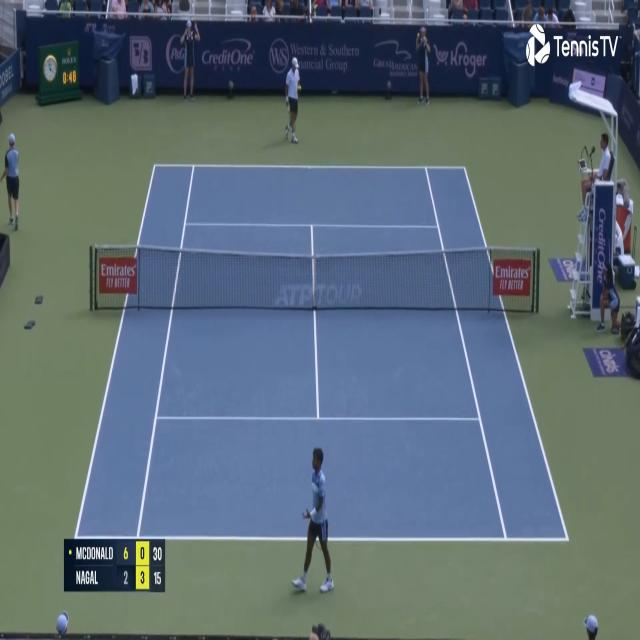tennis-player: (292, 442, 337, 600), (282, 52, 303, 144)
